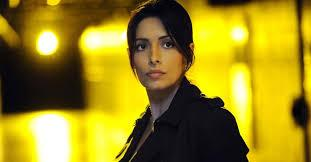person: (123, 0, 198, 93)
